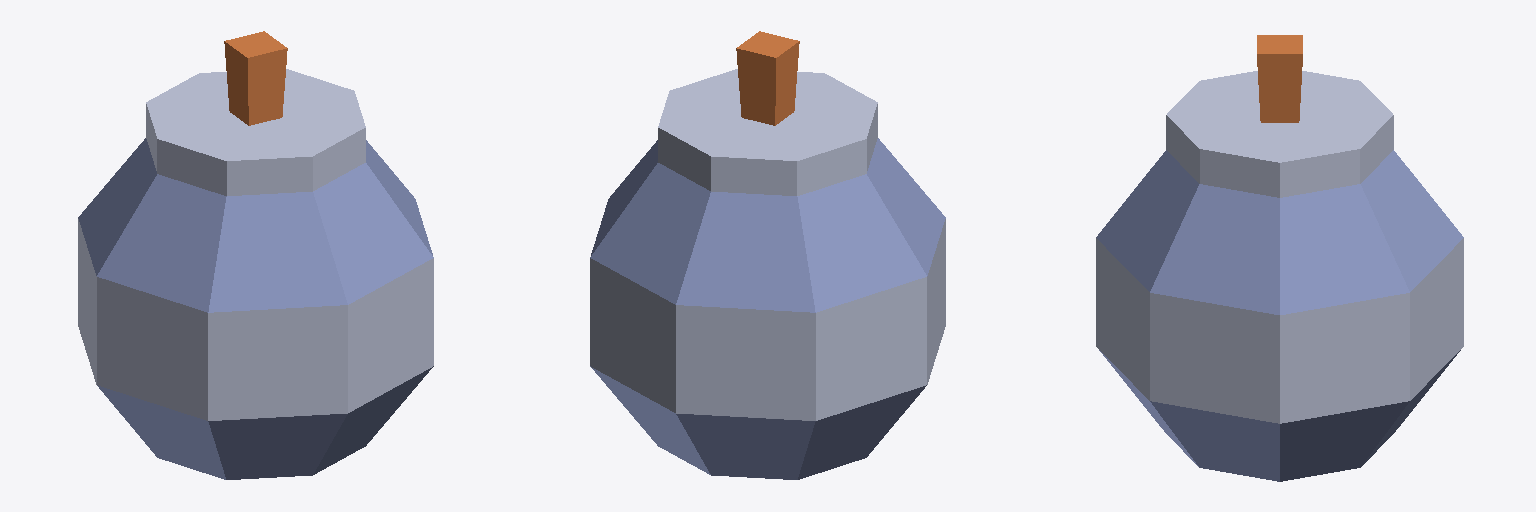
The model's file is bomb.obj.
3 views of the same model, side by side, from view 1: azimuth 30°, elevation 25°; view 2: azimuth 150°, elevation 25°; view 3: azimuth 270°, elevation 25° (orthographic).
Visible parts, largest first — view 1: bomb; view 2: bomb; view 3: bomb.
Boxes of the visible parts, <box> form: bomb: <box>78,31,433,479</box>; bomb: <box>590,31,945,479</box>; bomb: <box>1096,35,1463,481</box>.
Bounding box in the file's own units: 0.3424 × 0.4336 × 0.3424.